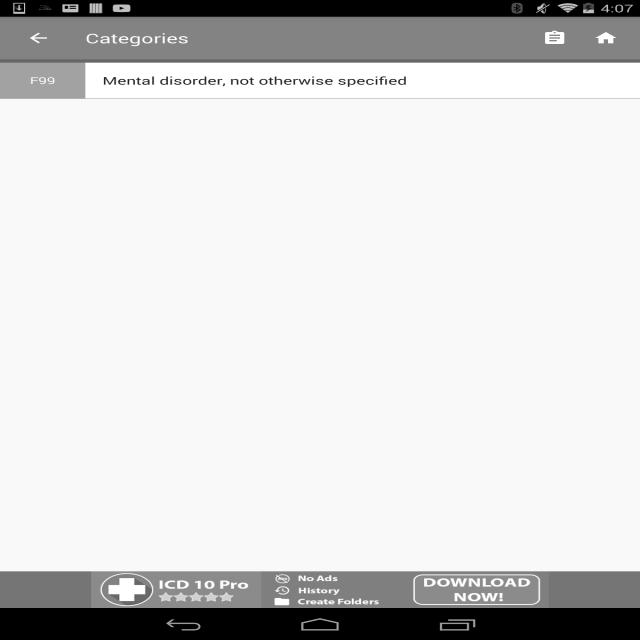ImageButton: (9, 17, 68, 59)
ImageView: (0, 571, 640, 608), (0, 98, 640, 99)
ProgressBar: (0, 59, 640, 63)
TextView: (102, 73, 407, 88), (0, 62, 85, 98), (85, 29, 189, 47), (580, 22, 632, 54), (529, 22, 580, 54)
